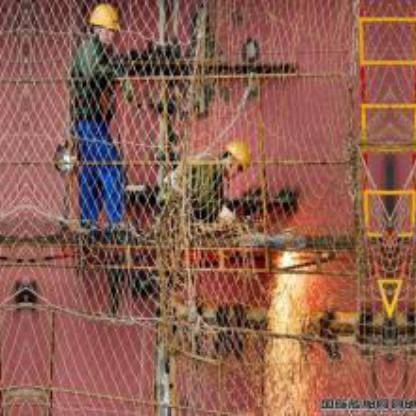Safety Helmet: (83, 1, 127, 52), (215, 137, 258, 183)
